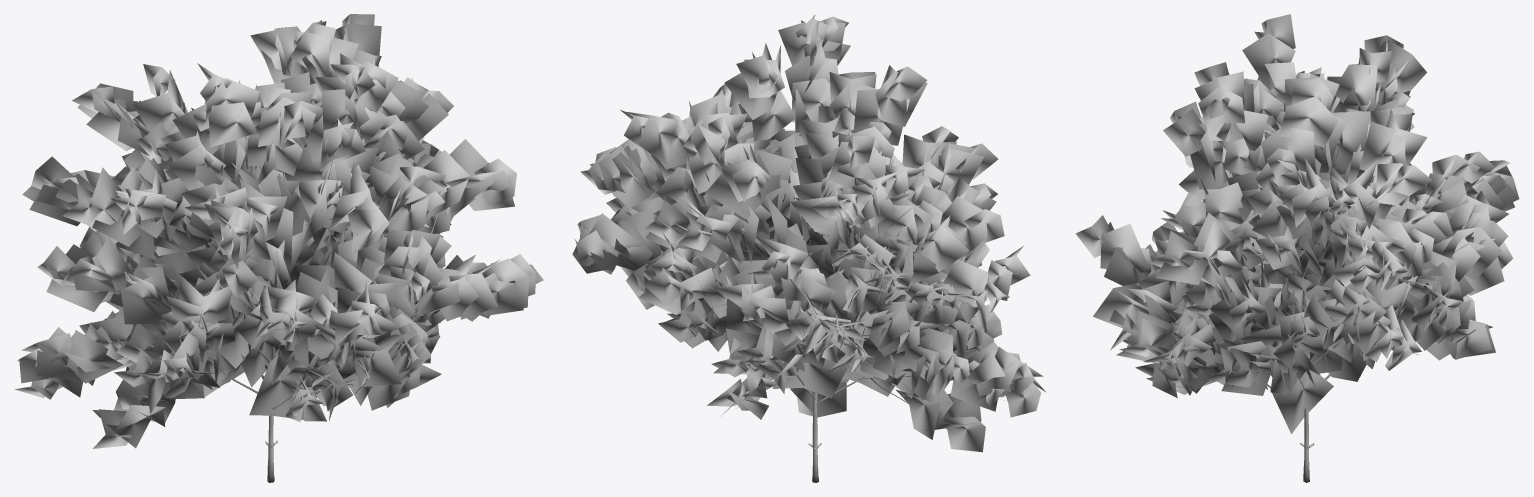
Rendered from MapleHedge_C (1).fbx.
3 renders of one model, left to right at view 1: azimuth 30°, elevation 25°; view 2: azimuth 150°, elevation 25°; view 3: azimuth 270°, elevation 25°, orthographic. The views are drawn at different scales.
Visible parts, largest first — view 1: MapleHedge_C_LOD0; view 2: MapleHedge_C_LOD0; view 3: MapleHedge_C_LOD0.
Boxes of the visible parts, bbox=[...] form: MapleHedge_C_LOD0: bbox=[14, 14, 543, 482]; MapleHedge_C_LOD0: bbox=[572, 15, 1045, 482]; MapleHedge_C_LOD0: bbox=[1075, 14, 1519, 482].
Bounding box in the file's own units: 1189 × 1099 × 1029.
